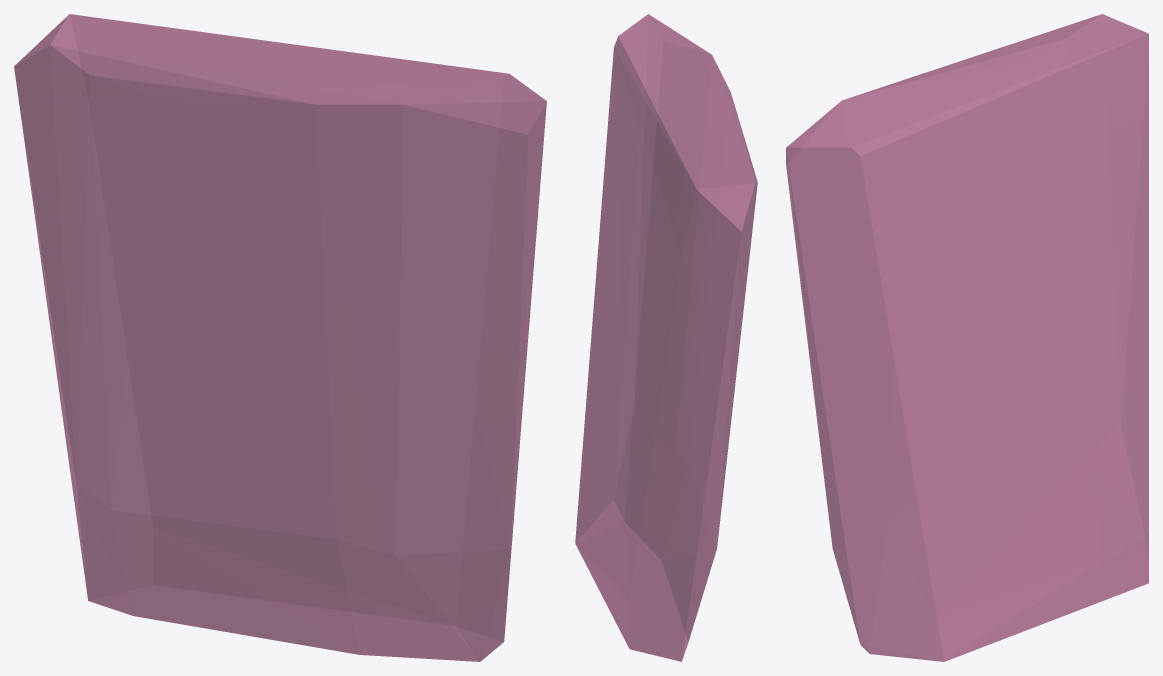
3 views of the same model, side by side, from view 1: azimuth 30°, elevation 25°; view 2: azimuth 150°, elevation 25°; view 3: azimuth 270°, elevation 25° (orthographic). The views are drawn at different scales.
Parts seen in each view (by area): view 1: Shape_IndexedFaceSet.037_Shape_IndexedFaceSet.6444; view 2: Shape_IndexedFaceSet.037_Shape_IndexedFaceSet.6444; view 3: Shape_IndexedFaceSet.037_Shape_IndexedFaceSet.6444.
Part boxes in pixels (box(x1,y1,x2,y2)): Shape_IndexedFaceSet.037_Shape_IndexedFaceSet.6444: box(14, 14, 546, 661); Shape_IndexedFaceSet.037_Shape_IndexedFaceSet.6444: box(575, 14, 757, 661); Shape_IndexedFaceSet.037_Shape_IndexedFaceSet.6444: box(786, 14, 1148, 661).
Bounding box in the file's own units: 0.2229 × 0.3885 × 0.2484.
